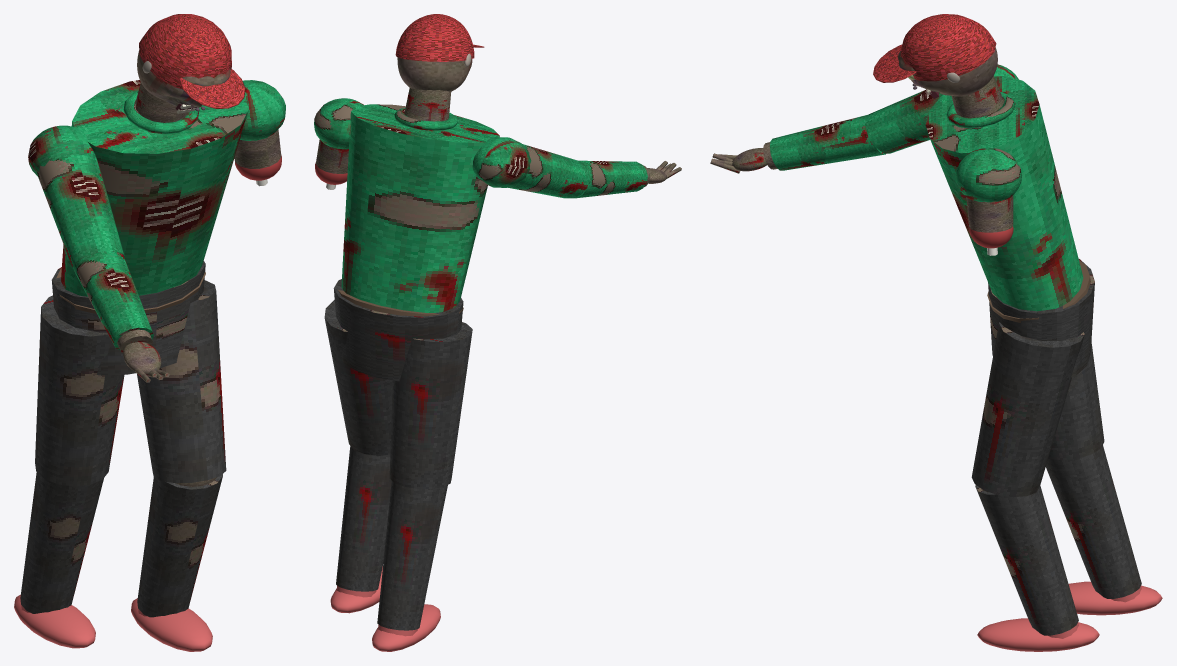
The model's file is Zombie_045.glb.
3 renders of one model, left to right at view 1: azimuth 30°, elevation 25°; view 2: azimuth 150°, elevation 25°; view 3: azimuth 270°, elevation 25°, orthographic. The views are drawn at different scales.
Visible parts, largest first — view 1: Zombie_045, object 35, object 4, object 10, object 36, object 5, object 3; view 2: Zombie_045, object 35, object 4, object 10; view 3: Zombie_045, object 35, object 4, object 10, object 36.
Boxes of the visible parts, x1,y1,x2,y2 form: Zombie_045: (14, 80, 285, 651); object 35: (139, 14, 231, 89); object 4: (73, 251, 153, 350); object 10: (137, 50, 230, 107); object 36: (179, 69, 245, 108); object 5: (123, 342, 161, 371); object 3: (117, 329, 152, 352); Zombie_045: (314, 88, 589, 651); object 35: (395, 14, 474, 61); object 4: (574, 160, 647, 198); object 10: (397, 57, 472, 91); Zombie_045: (865, 64, 1162, 651); object 35: (900, 14, 996, 81); object 4: (770, 115, 885, 170); object 10: (898, 47, 997, 96); object 36: (873, 44, 916, 82).
Bounding box in the file's own units: 0.7651 × 1.71 × 1.14.
18 materials, 6 textured.
